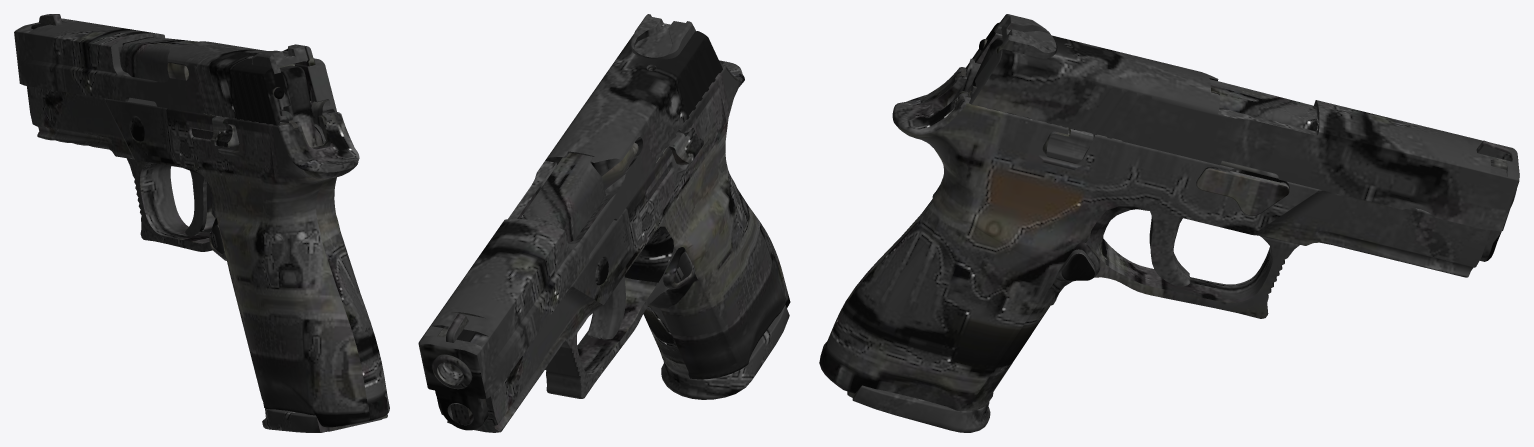
3 views of the same model, side by side, from view 1: azimuth 30°, elevation 25°; view 2: azimuth 150°, elevation 25°; view 3: azimuth 270°, elevation 25° (orthographic). The views are drawn at different scales.
Visible parts, largest first — view 1: p_p228; view 2: p_p228; view 3: p_p228.
Part boxes in pixels (x1,y1,x2,y2): p_p228: (14,14,389,432); p_p228: (418,14,790,432); p_p228: (819,14,1519,432).
Bounding box in the file's own units: 0.0651 × 0.2432 × 0.3846.
1 material, 1 textured.
